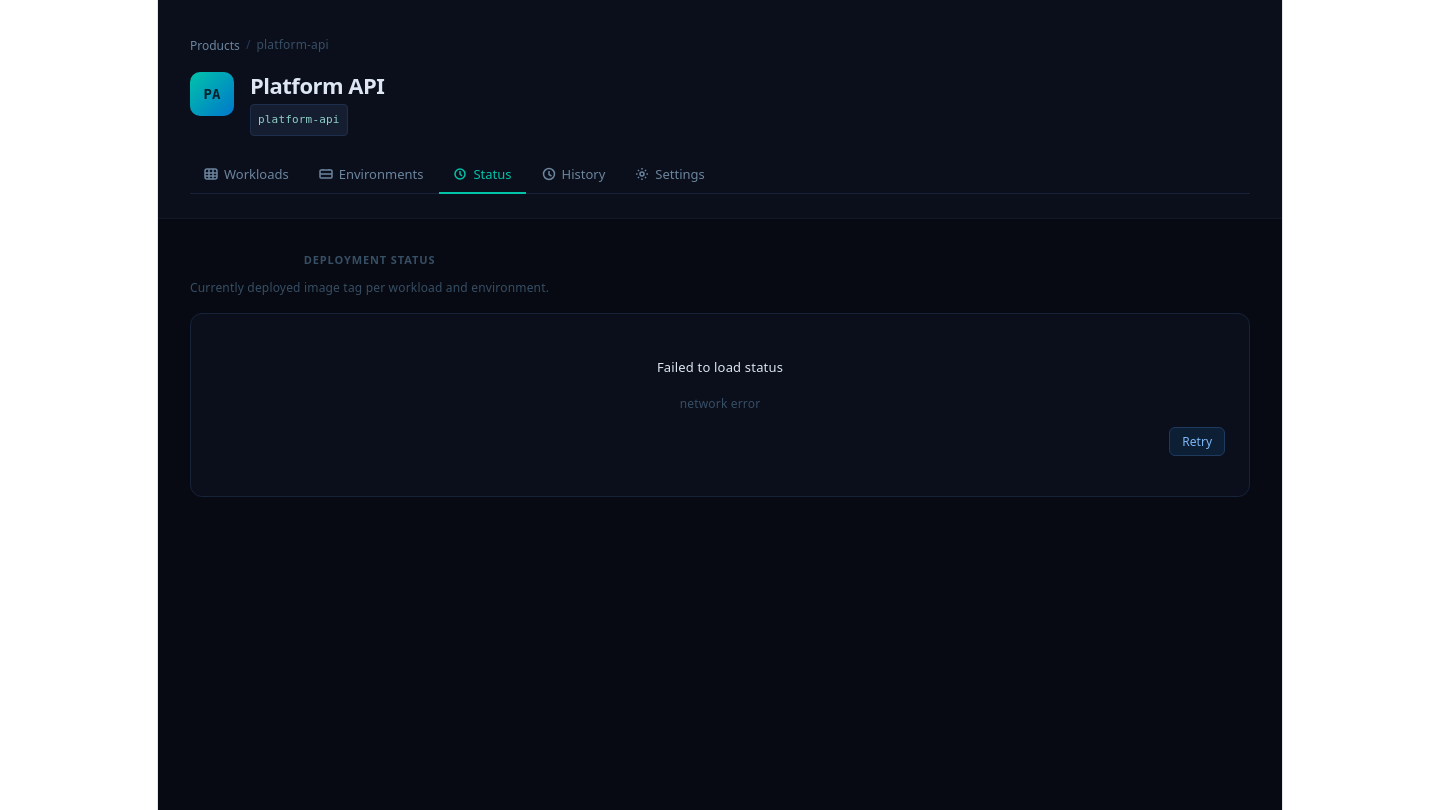
ProductStatusPage — error state › re-fetches when Retry is clicked after error
The image size is (1440, 810).
Click the button with test id "status-retry": (1197, 441) [1169,427,1225,456]
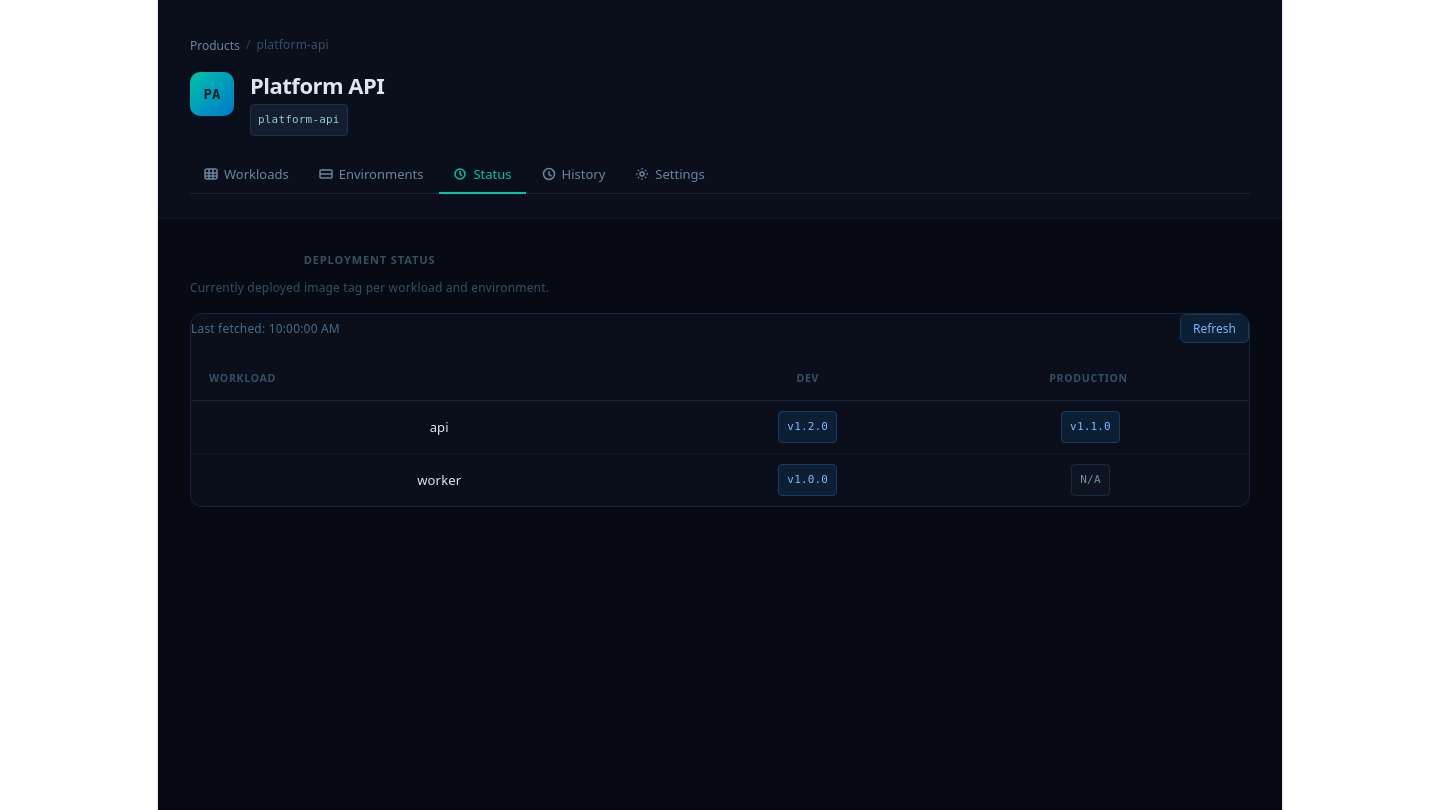
Expected: the element with test id "status-matrix" is shown, [191,314,1249,506]
